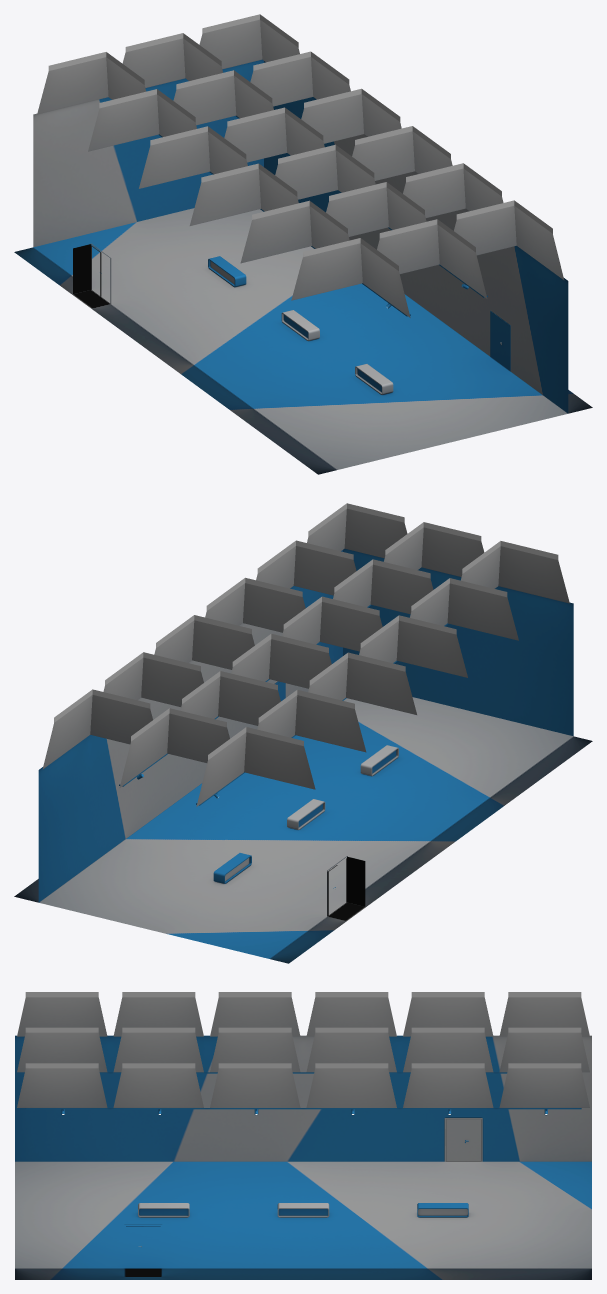
Rendered from VRGalleryRoom.glb.
3 renders of one model, top to bottom at view 1: azimuth 30°, elevation 25°; view 2: azimuth 150°, elevation 25°; view 3: azimuth 270°, elevation 25°, orthographic. The views are drawn at different scales.
Parts seen in each view (by area): view 1: VRGalleryRoom; view 2: VRGalleryRoom; view 3: VRGalleryRoom.
Boxes of the visible parts, x1,y1,x2,y2 form: VRGalleryRoom: (14, 14, 592, 474); VRGalleryRoom: (14, 503, 592, 963); VRGalleryRoom: (15, 992, 591, 1279).
Bounding box in the file's own units: 12.94 × 8.25 × 24.9.
Materials: 1 (1 with a texture image).
